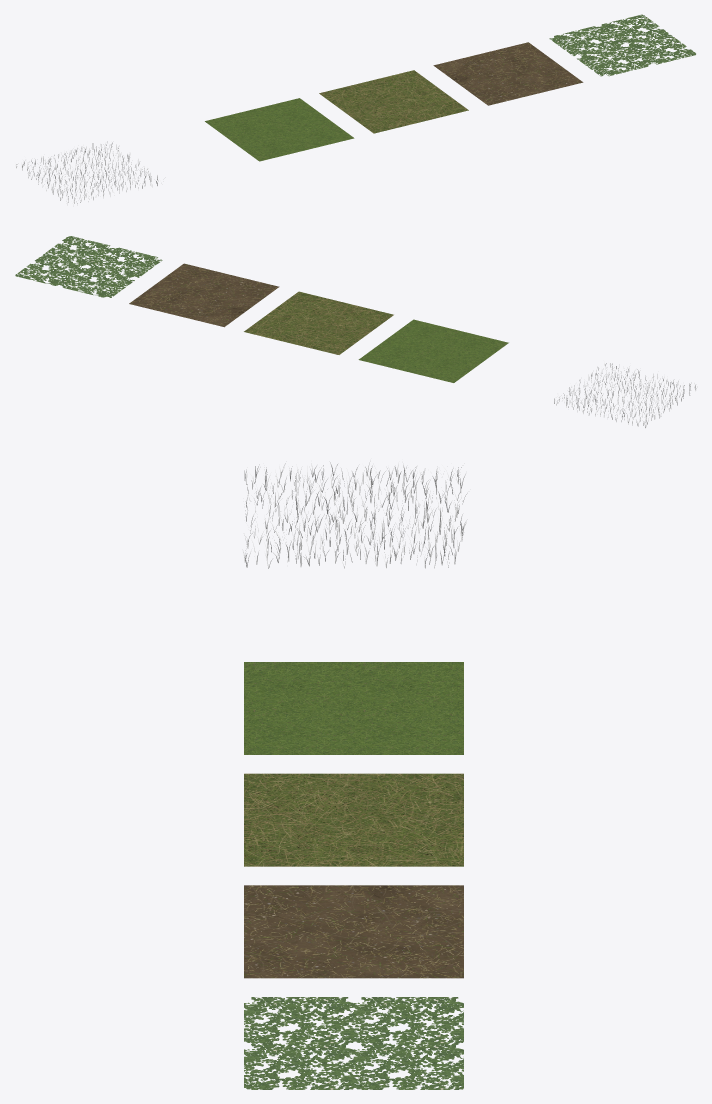
The model's file is veg.lawn.glb.
The picture shows the model from 3 angles, top to bottom: view 1: azimuth 30°, elevation 25°; view 2: azimuth 150°, elevation 25°; view 3: azimuth 270°, elevation 25°; orthographic projection. The views are drawn at different scales.
Visible parts, largest first — view 1: lawn.swatch.meadow, lawn.swatch.lawn, lawn.swatch.soil, lawn.swatch.clover, lawn.tile; view 2: lawn.swatch.lawn, lawn.swatch.soil, lawn.swatch.meadow, lawn.swatch.clover, lawn.tile; view 3: lawn.swatch.meadow, lawn.swatch.soil, lawn.swatch.lawn, lawn.swatch.clover, lawn.tile.
Boxes of the visible parts, left/top/right/bottom form: lawn.swatch.meadow: left=319, top=70, right=468, bottom=133; lawn.swatch.lawn: left=205, top=98, right=354, bottom=161; lawn.swatch.soil: left=433, top=42, right=583, bottom=105; lawn.swatch.clover: left=549, top=14, right=695, bottom=76; lawn.tile: left=15, top=141, right=162, bottom=206; lawn.swatch.lawn: left=358, top=319, right=508, bottom=382; lawn.swatch.soil: left=129, top=263, right=279, bottom=327; lawn.swatch.meadow: left=244, top=291, right=393, bottom=354; lawn.swatch.clover: left=15, top=236, right=162, bottom=297; lawn.tile: left=554, top=360, right=696, bottom=428; lawn.swatch.meadow: left=244, top=773, right=463, bottom=866; lawn.swatch.soil: left=244, top=885, right=463, bottom=978; lawn.swatch.lawn: left=244, top=662, right=463, bottom=754; lawn.swatch.clover: left=244, top=997, right=463, bottom=1089; lawn.tile: left=242, top=460, right=467, bottom=568.
Bounding box in the file's own units: 6.63 × 0.0911 × 1.05.
5 materials, 4 textured.
